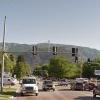Traffic light: (26, 43, 79, 63)
